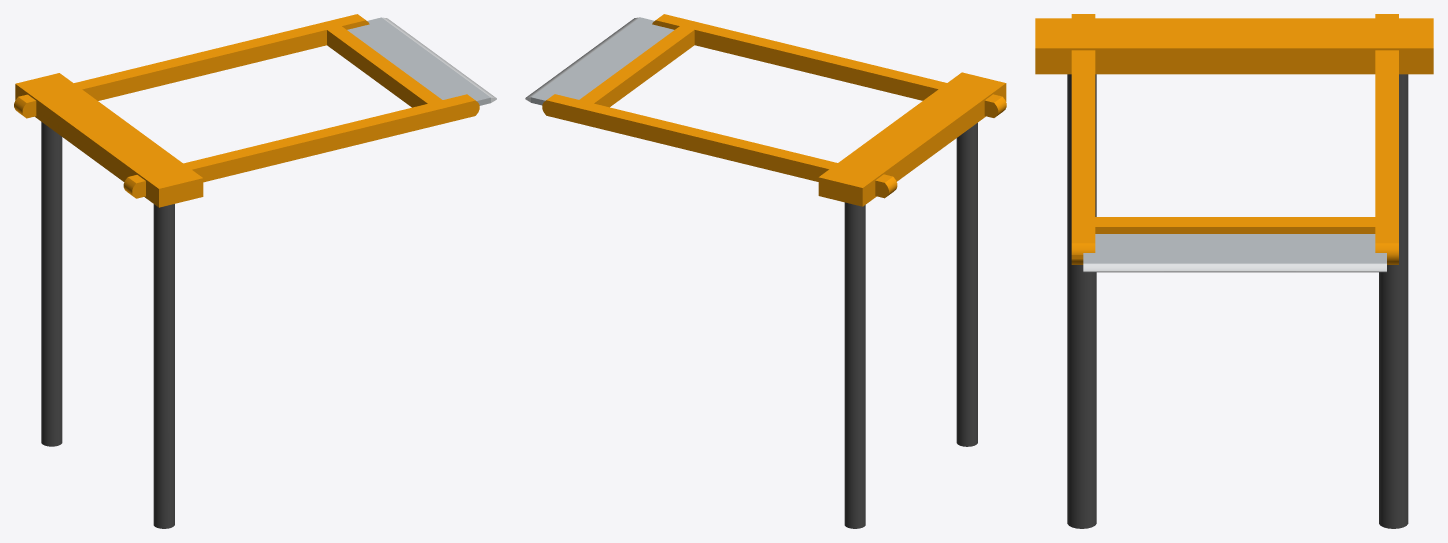
Rendered from trap_06.fbx.
The picture shows the model from 3 angles, left to right: view 1: azimuth 30°, elevation 25°; view 2: azimuth 150°, elevation 25°; view 3: azimuth 270°, elevation 25°; orthographic projection. The views are drawn at different scales.
Visible parts, largest first — view 1: trap_06, trap_06_asset; view 2: trap_06, trap_06_asset; view 3: trap_06, trap_06_asset.
Part boxes in pixels (x1,y1,x2,y2): trap_06: (15, 73, 203, 528); trap_06_asset: (14, 14, 496, 198); trap_06: (818, 72, 1006, 528); trap_06_asset: (525, 14, 1006, 198); trap_06: (1035, 18, 1433, 528); trap_06_asset: (1071, 14, 1398, 272).
Size of the model in its own units: 2186 by 1999 by 1475.
1 material, 1 textured.
